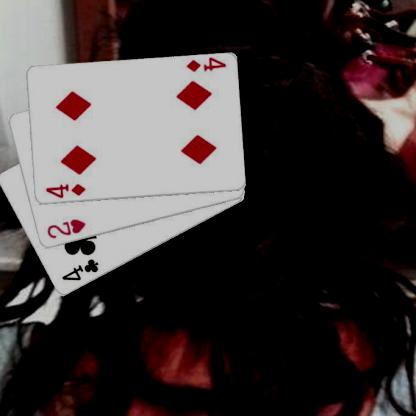2H: (44, 216, 87, 240)
4C: (59, 256, 100, 282)
4D: (43, 181, 86, 200), (183, 56, 227, 73)
